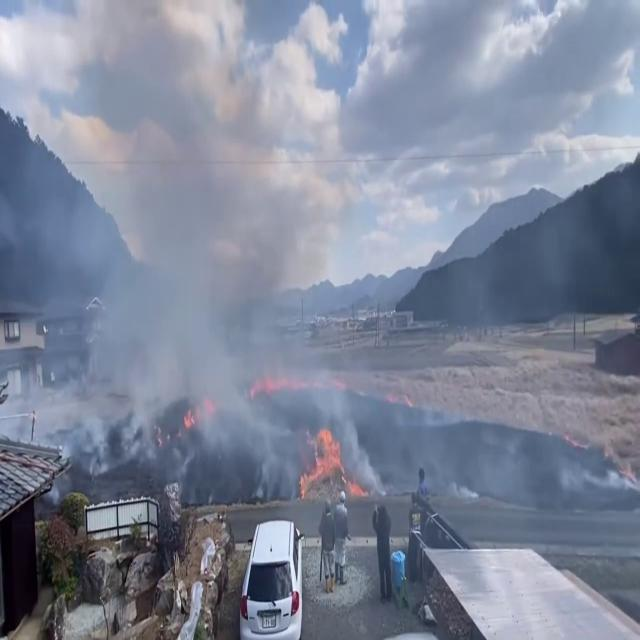Fire: (297, 403, 383, 500)
Smoke: (1, 80, 353, 468), (296, 398, 384, 500)
